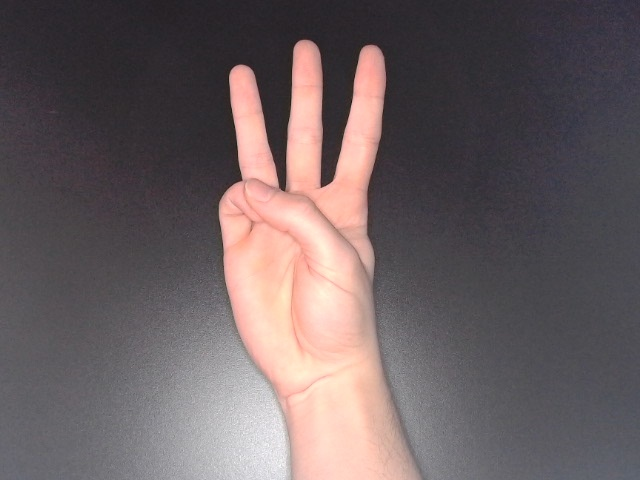w: (212, 35, 393, 404)
